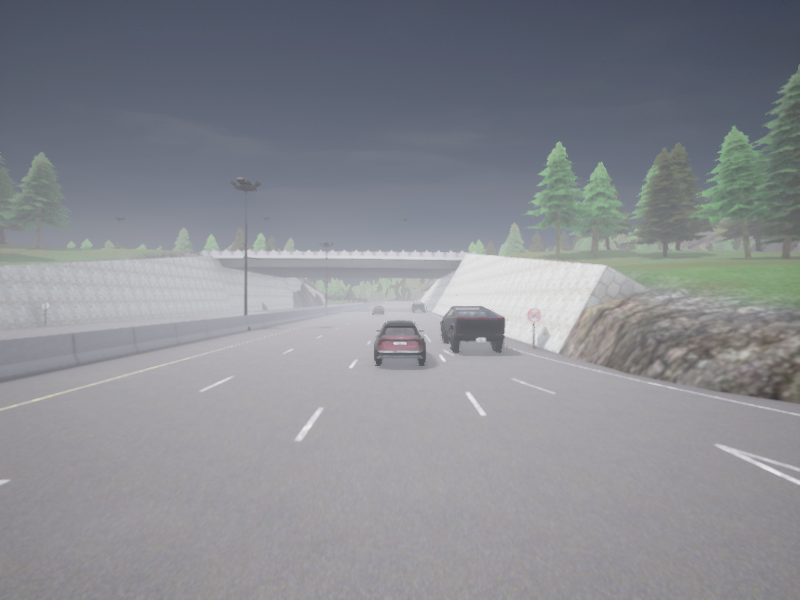vehicle: (440, 306, 504, 351), (374, 320, 425, 364), (411, 302, 424, 312), (373, 306, 385, 314)
